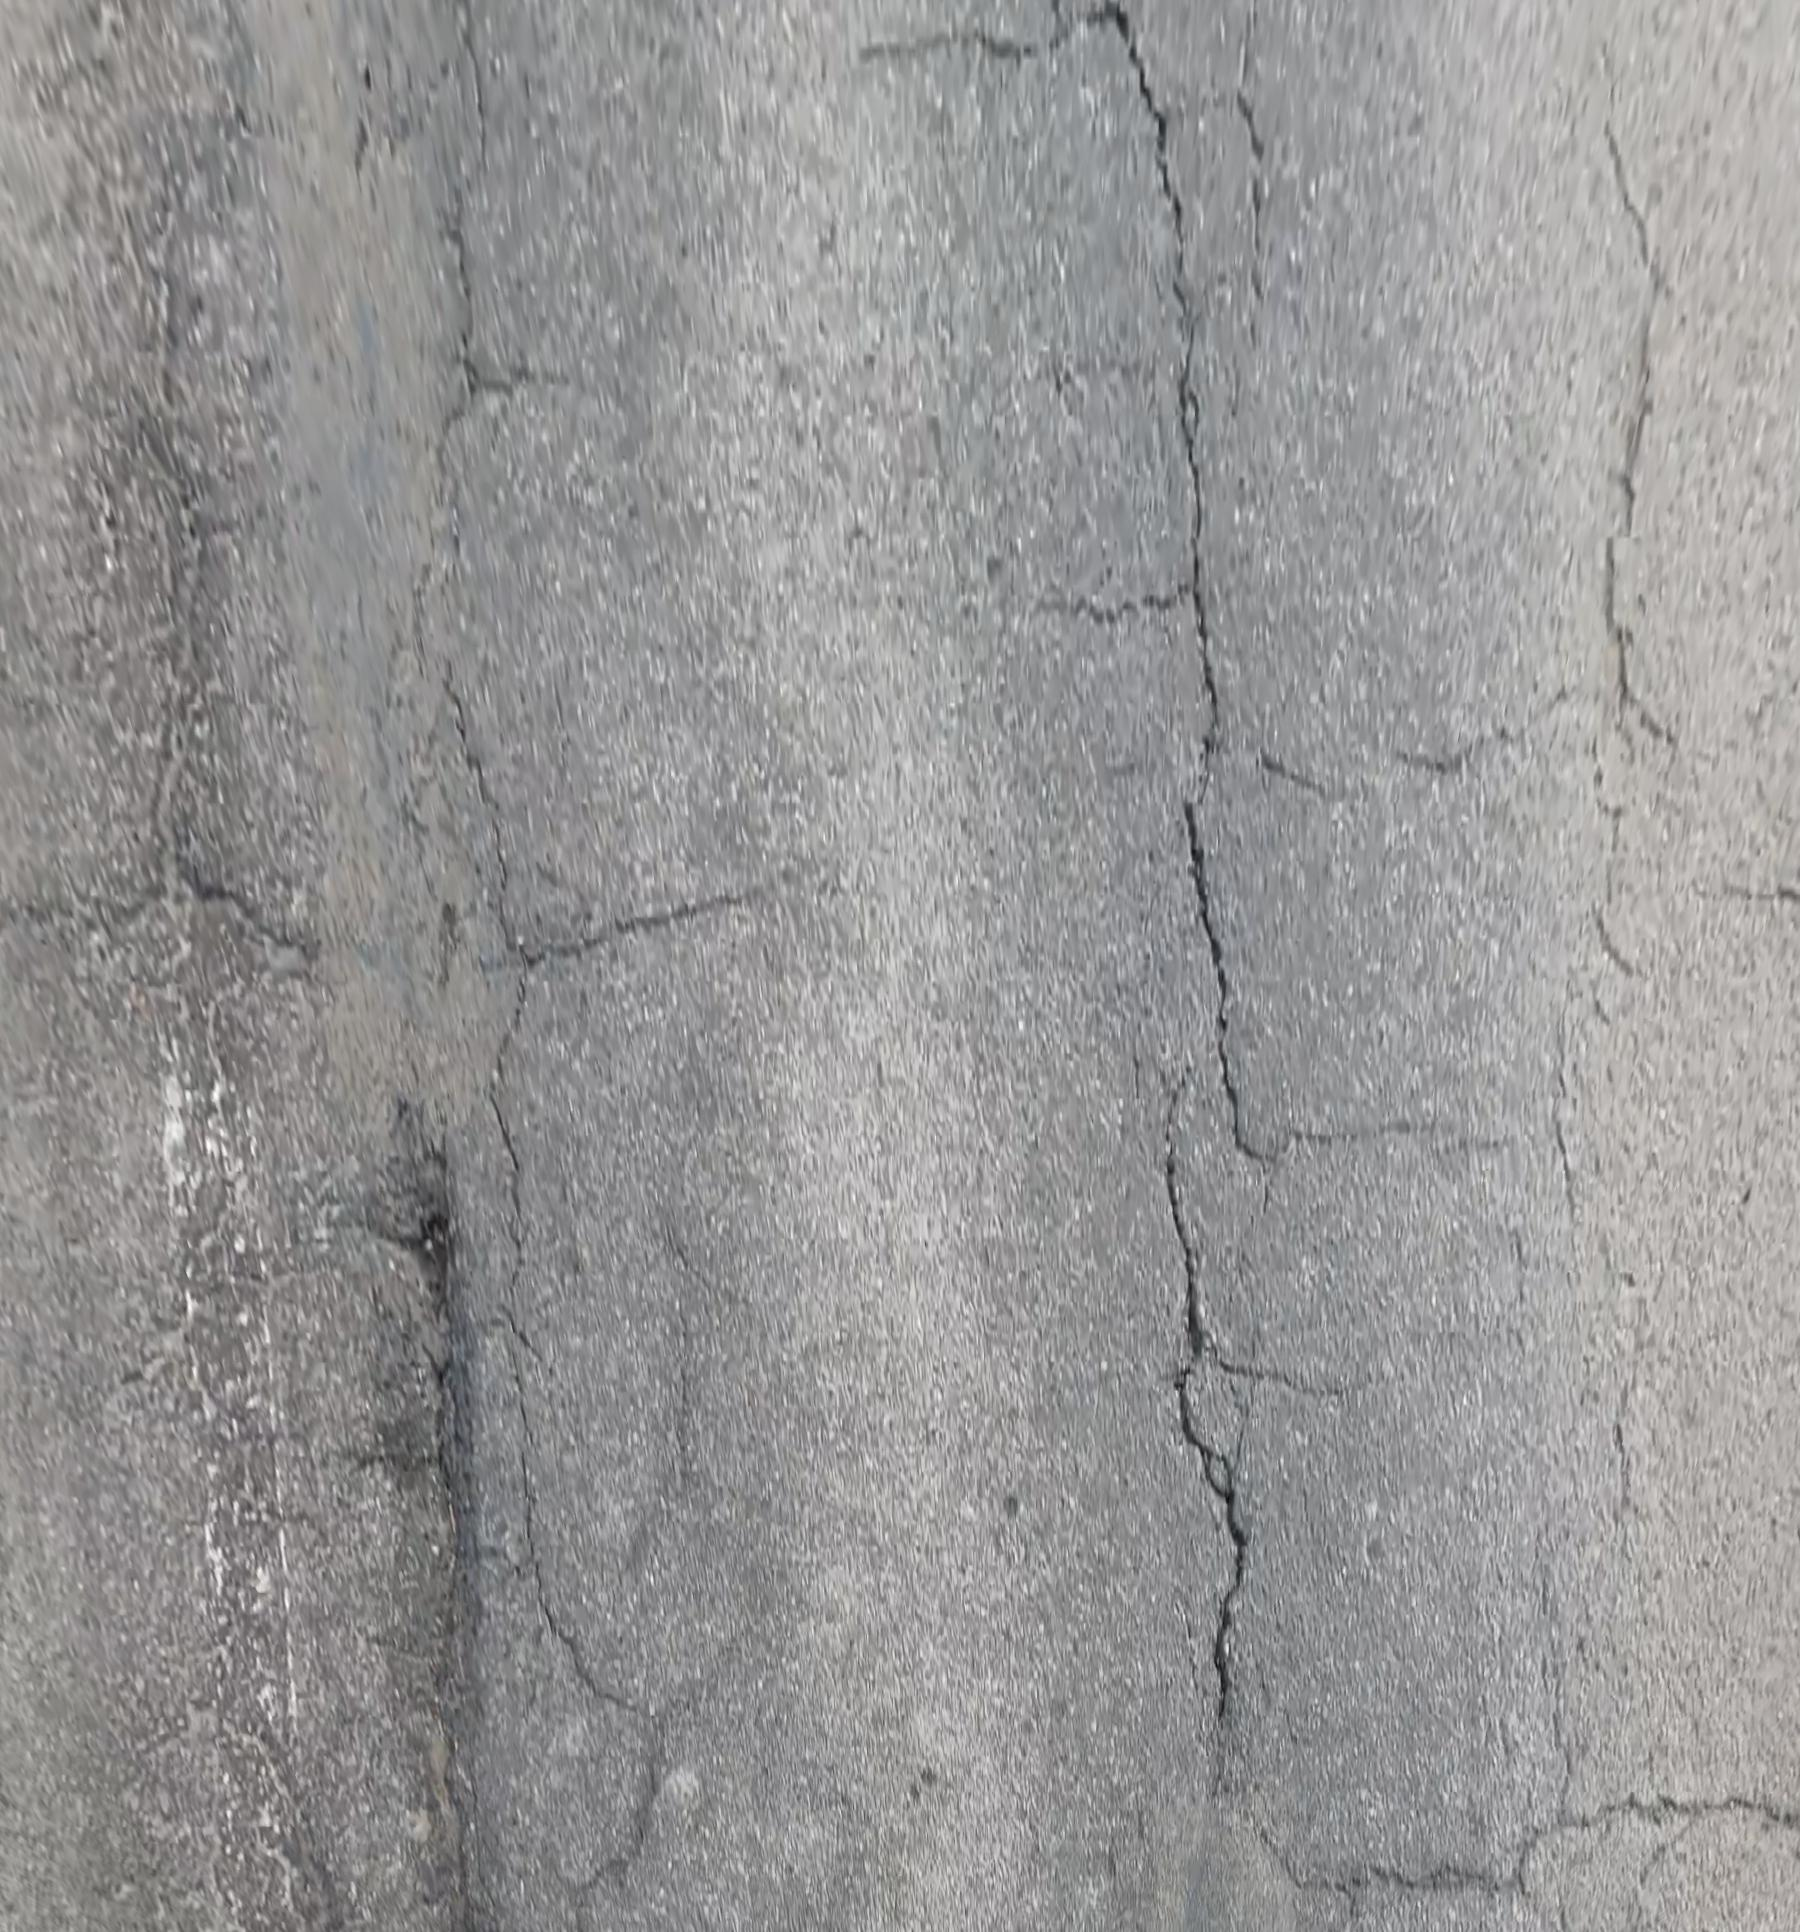pothole: (365, 1096, 448, 1296)
